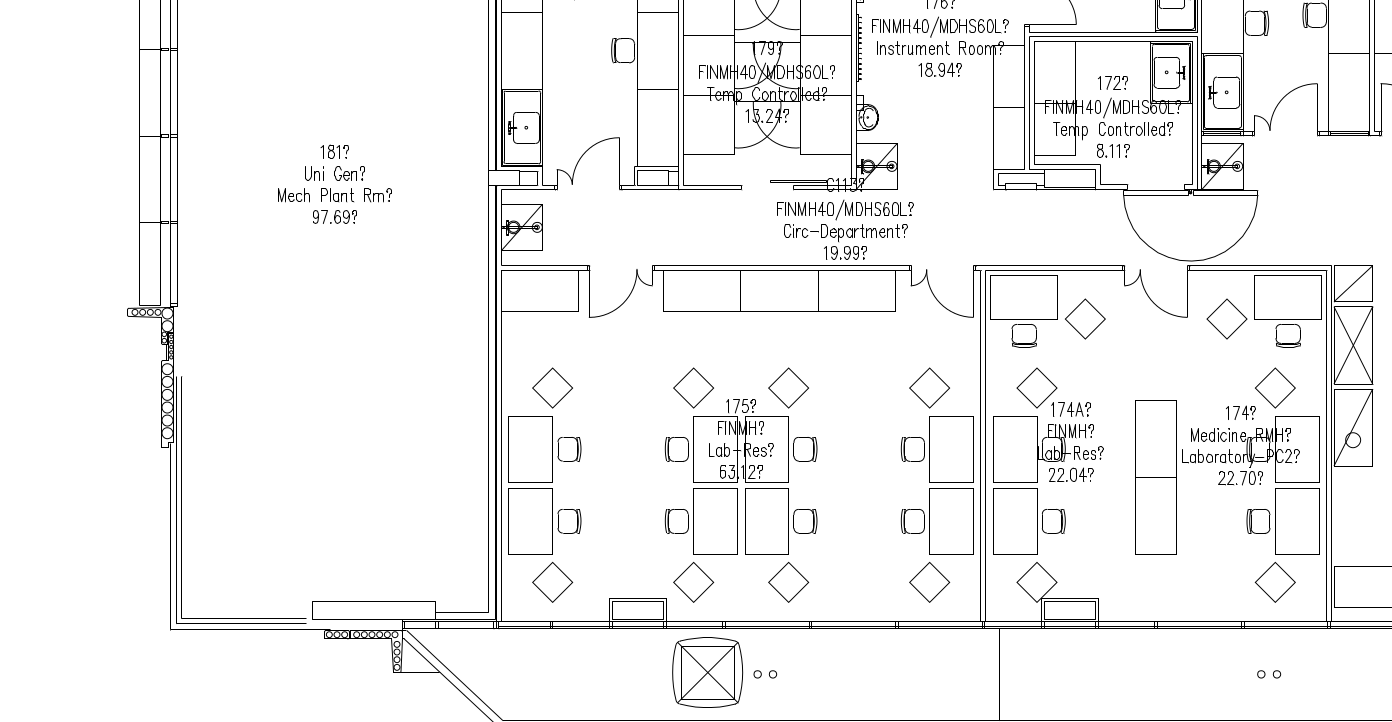door: (1112, 190, 1268, 264), (1266, 78, 1322, 149), (572, 132, 622, 201), (584, 254, 634, 323), (925, 258, 975, 327), (1141, 262, 1191, 331), (904, 258, 929, 292), (633, 262, 658, 296), (1118, 259, 1143, 293), (1250, 108, 1275, 142)
